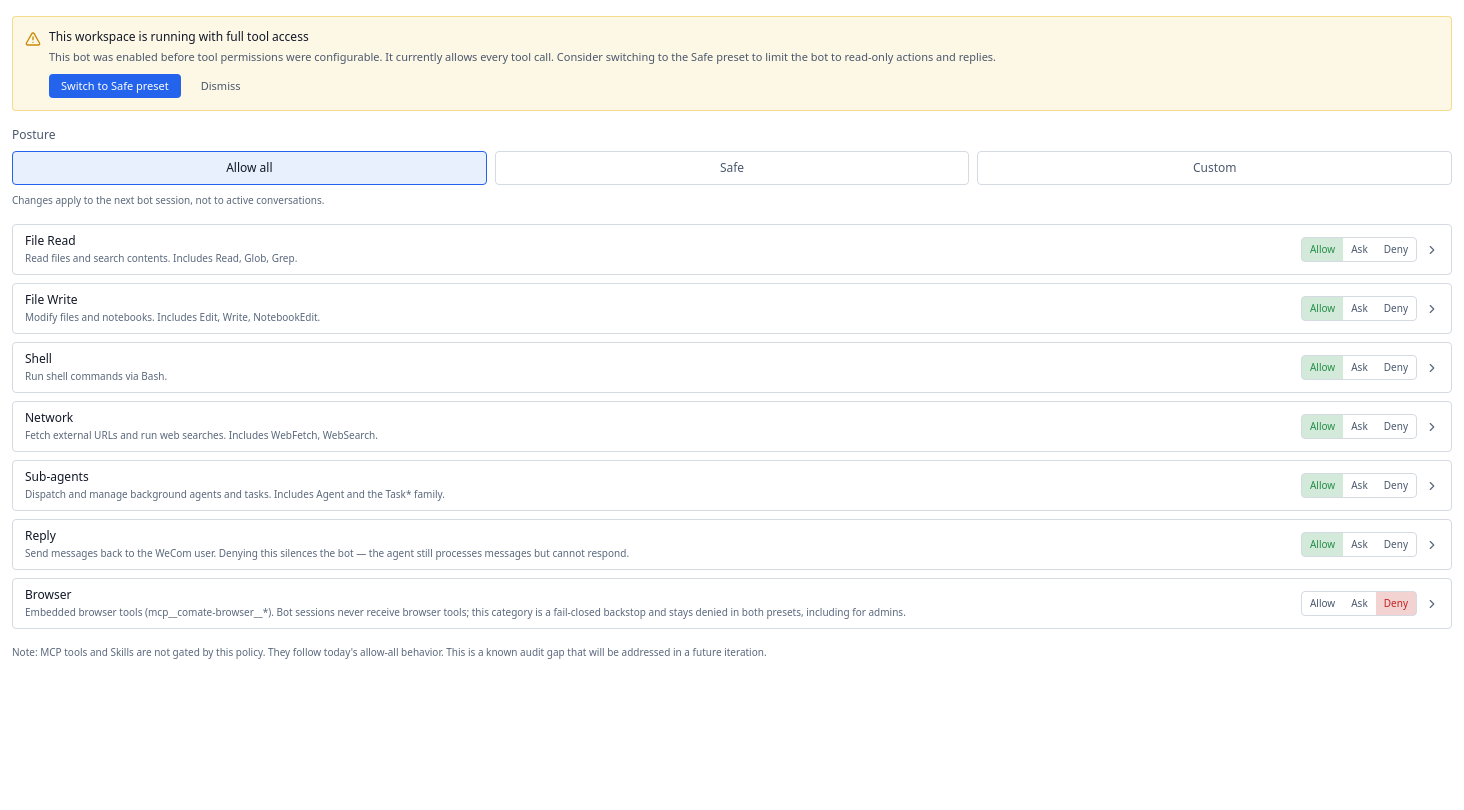
it: PermissionsSubTab › dismiss button hides the grandfathering banner and persists to localStorage
This screenshot has width=1464, height=810.
Expected: the text "This workspace is running with full tool access" is shown, [49,28,309,45]
Click the button "Dismiss" at point(221, 86), box [189,74,252,98]
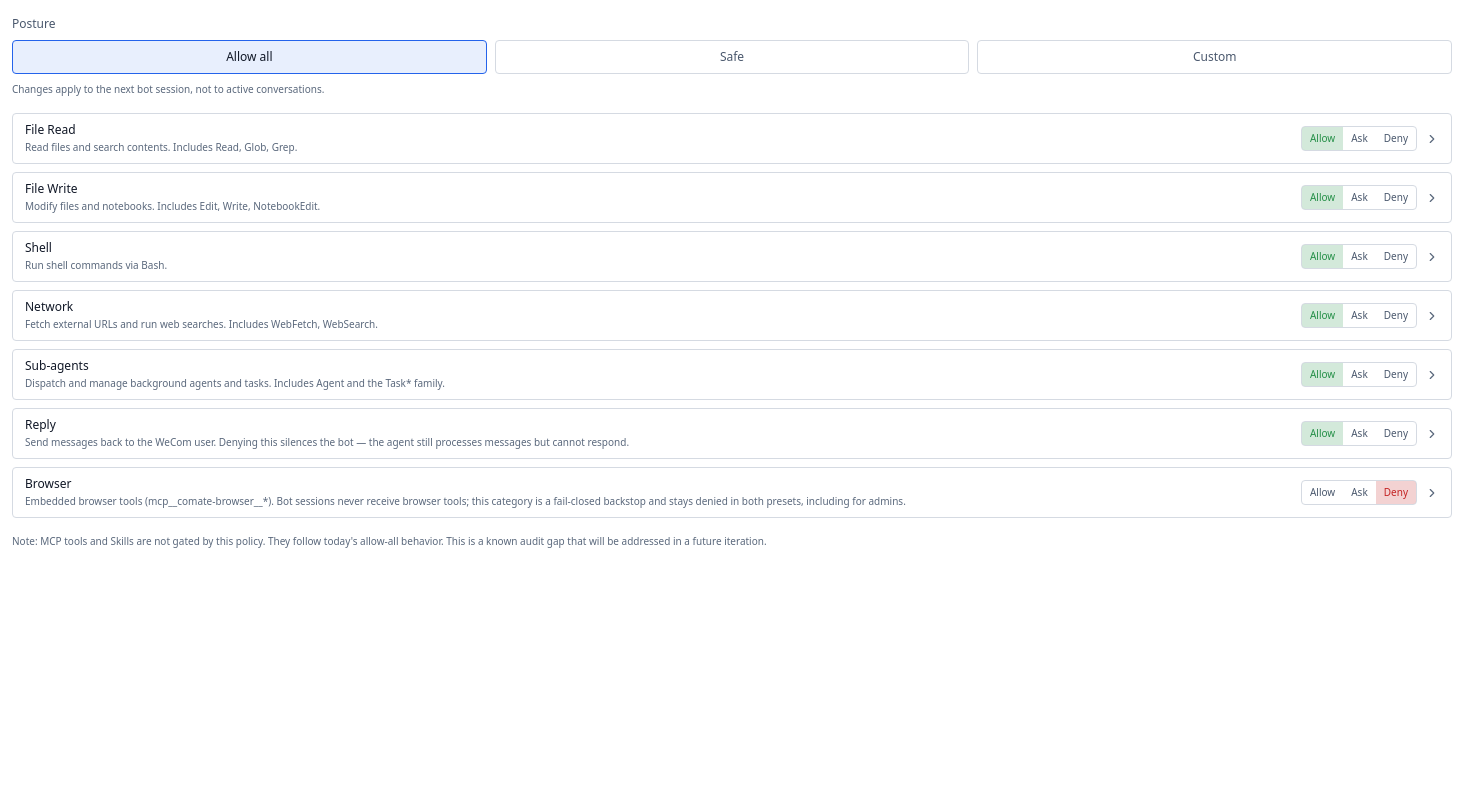
Expected: the text "This workspace is running with full tool access" is gone
